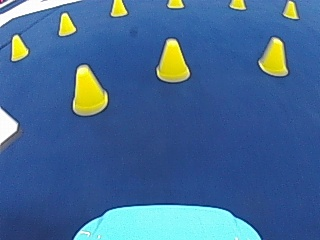cone: (71, 63, 107, 115), (155, 36, 190, 82), (258, 35, 289, 76), (9, 33, 28, 60), (57, 11, 76, 36), (282, 0, 299, 19), (110, 0, 127, 16), (230, 0, 245, 10), (167, 0, 183, 9)
